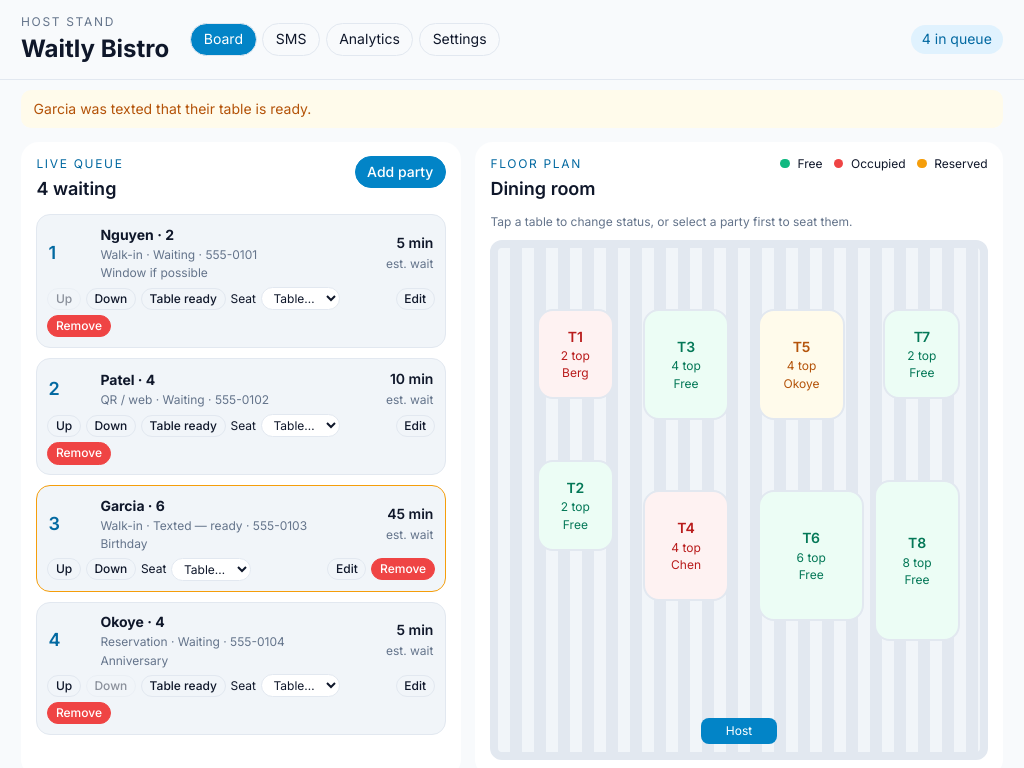
Test: Waitly host UI › adds a walk-in from the host form
The width and height of the screenshot is (1024, 768).
Check: the text "Nguyen · 2" is shown, box top-left (100, 226), bottom-right (174, 243)
Click the button "Add party" at (400, 172), box top-left (355, 156), bottom-right (446, 188)
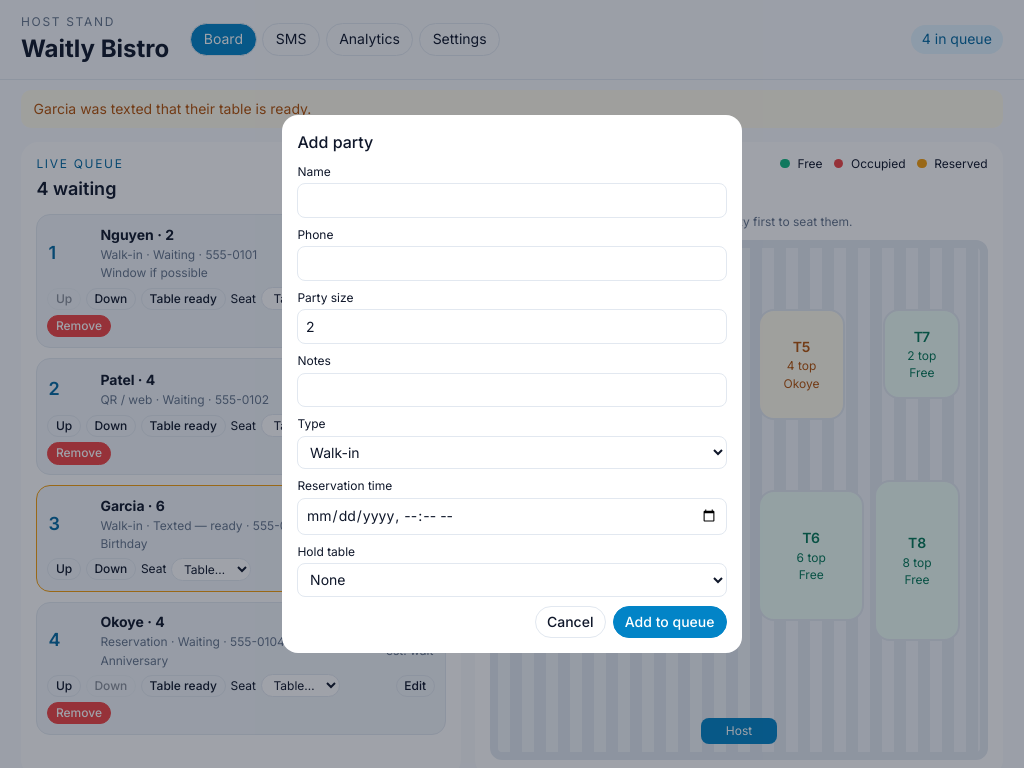
Type "Kim" into the field labelled "Name" at (512, 200), box top-left (297, 183), bottom-right (727, 218)
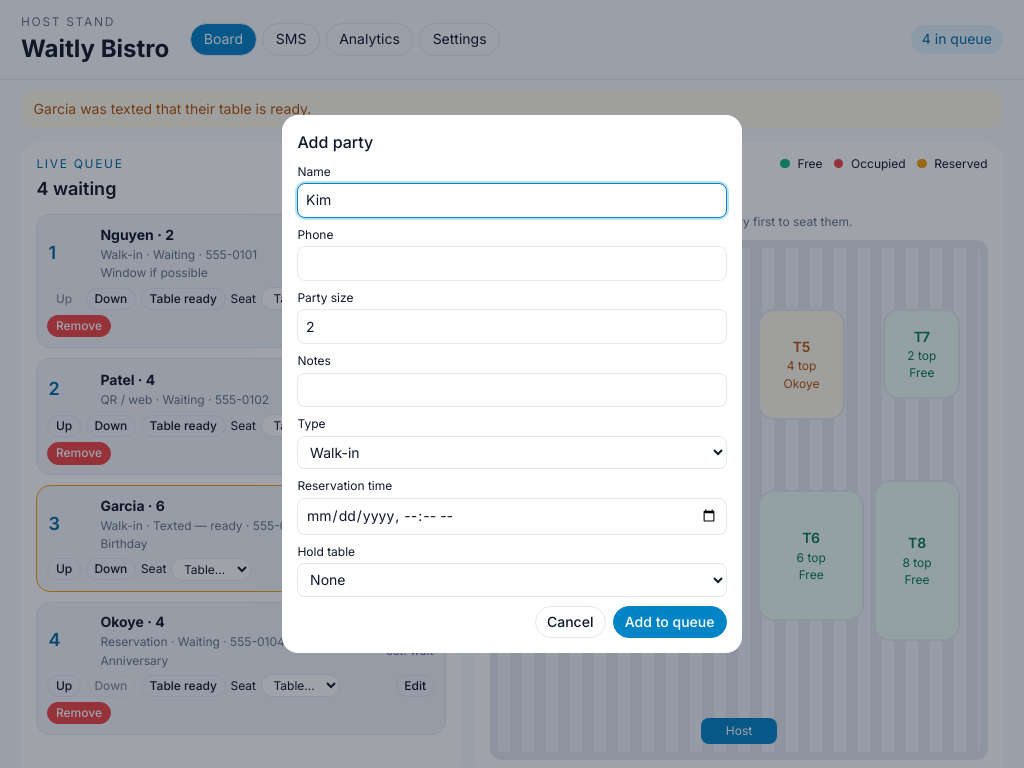
Type "555-0110" into the field labelled "Phone" at (512, 264), box top-left (297, 246), bottom-right (727, 281)
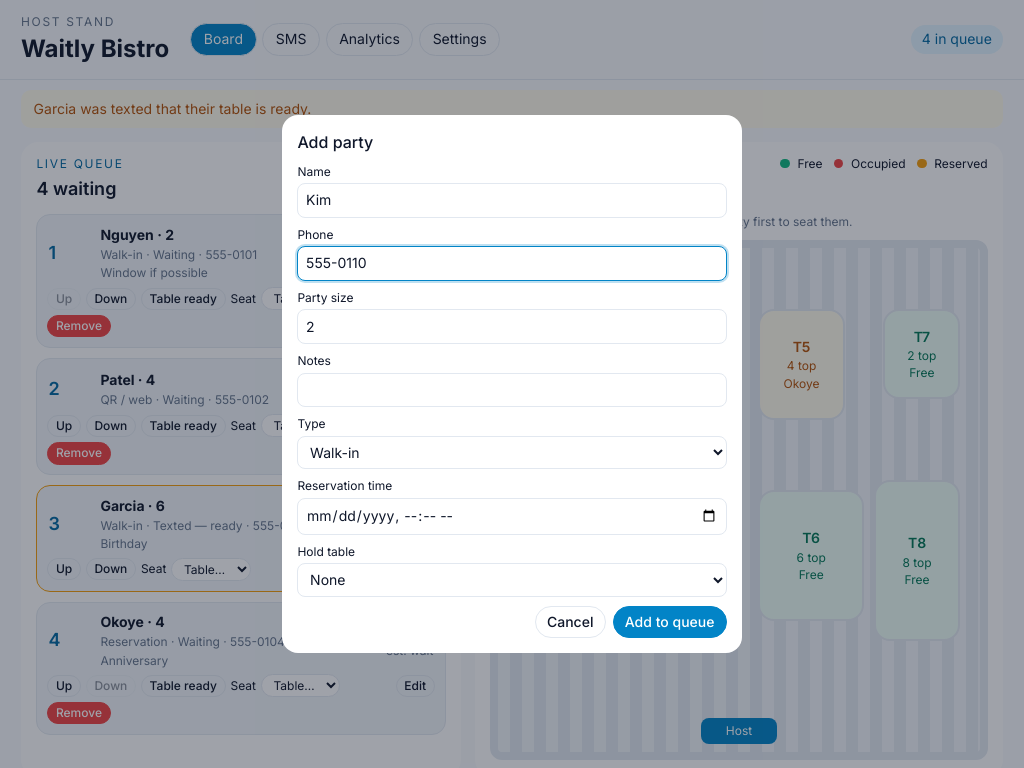
Click the button "Add to queue" at (670, 622), box top-left (613, 606), bottom-right (727, 638)
(page scrolled)
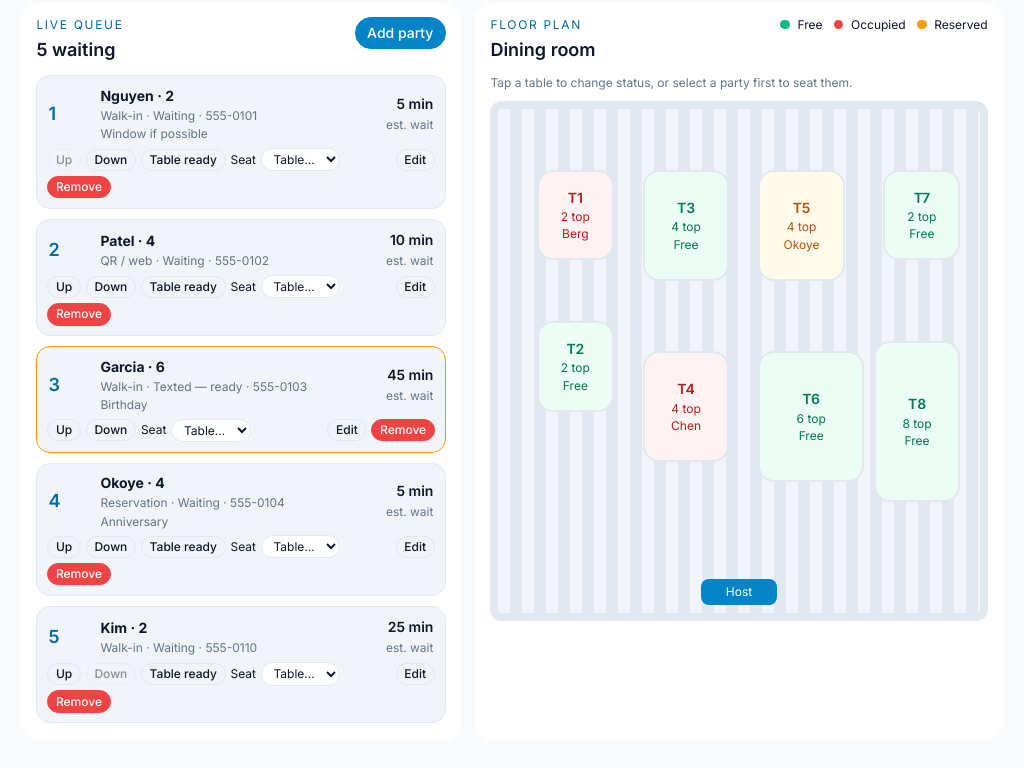
Check: the text "Kim · 2" is shown, box top-left (100, 619), bottom-right (147, 636)
